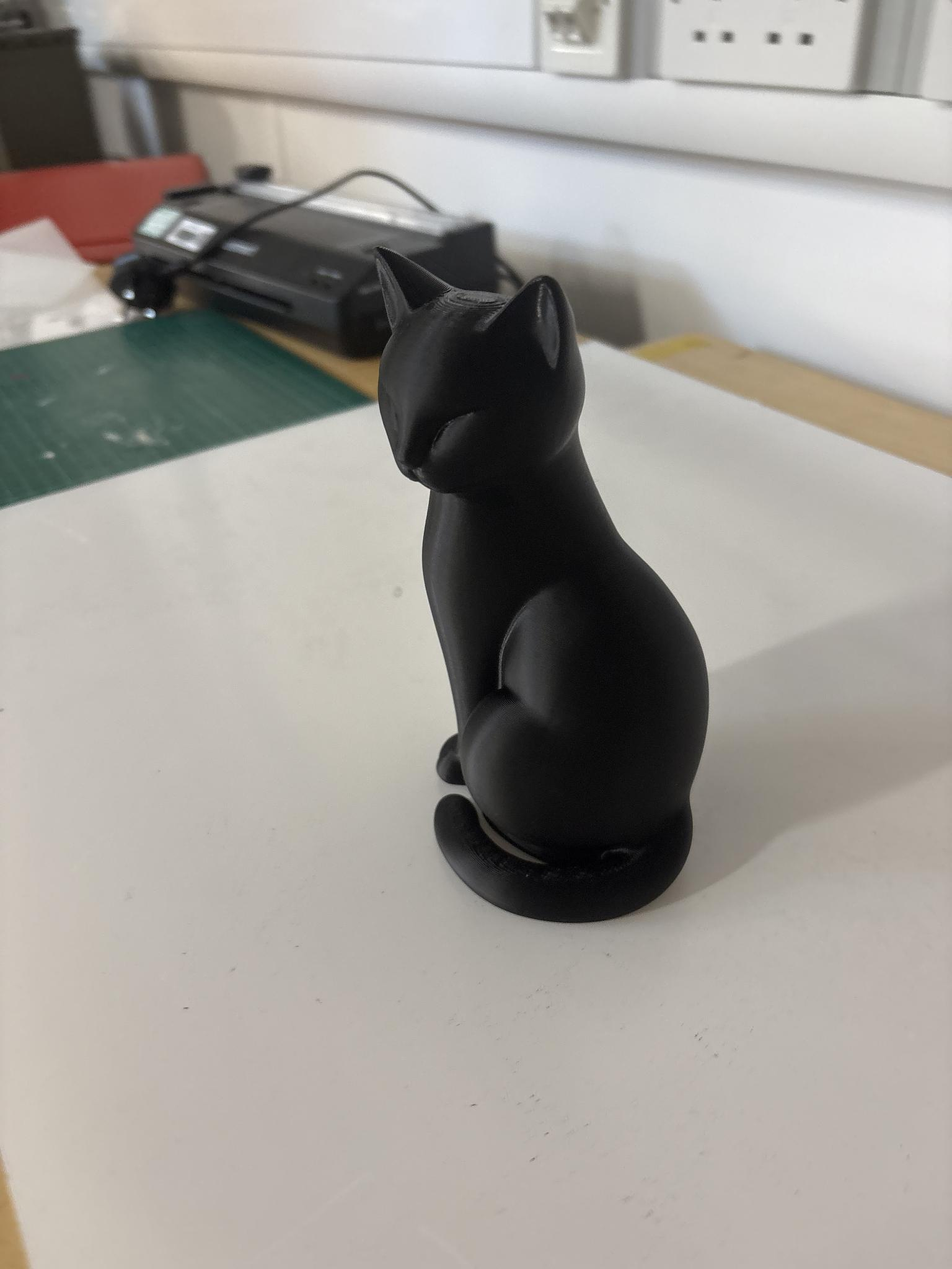cat: (378, 249, 707, 921)
